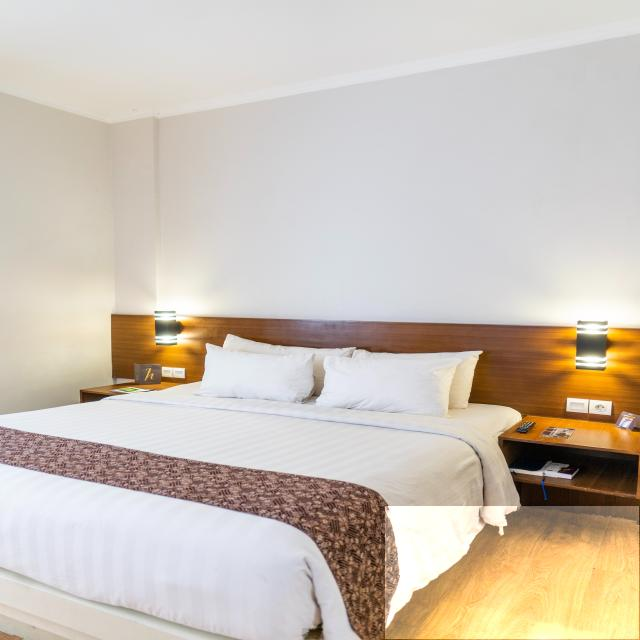floor: (386, 506, 639, 640), (302, 629, 323, 640), (0, 631, 24, 640)
